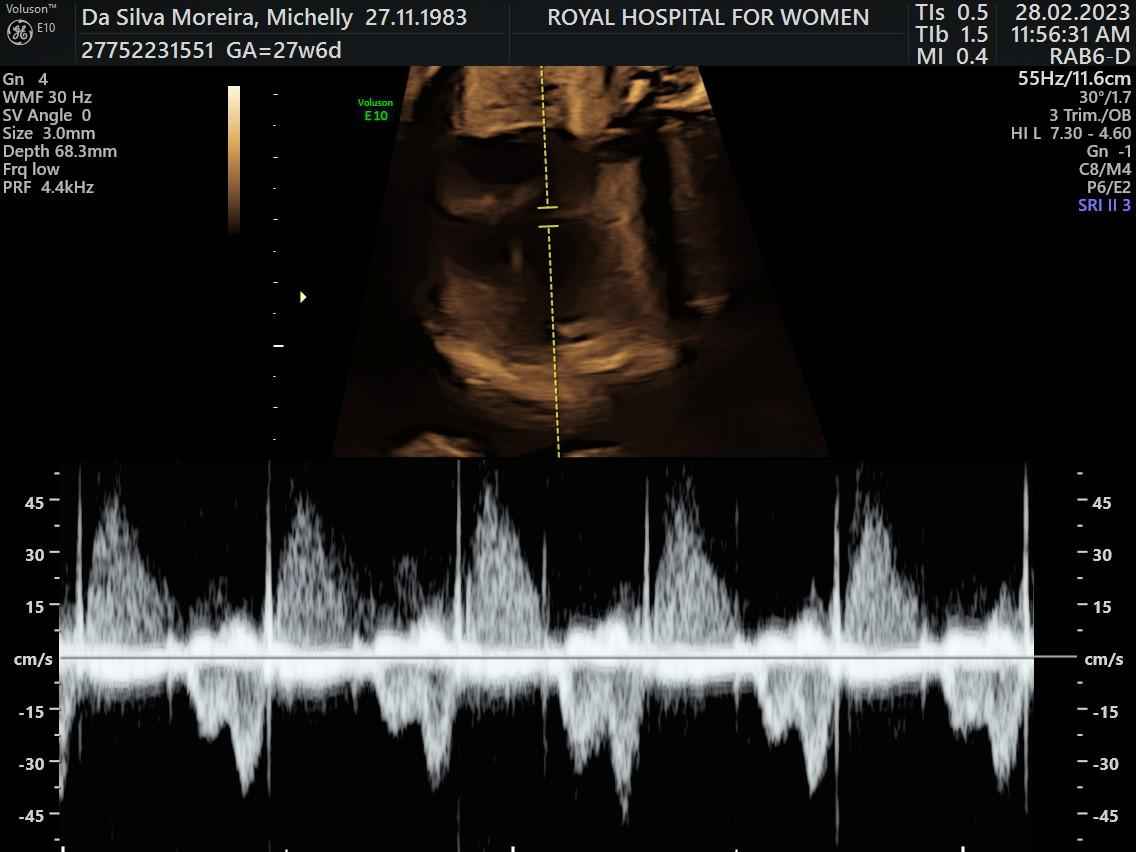Ultrasound-Waves: (62, 457, 1074, 850)
